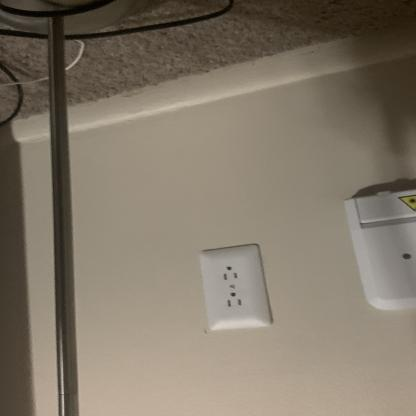OUTLET: (201, 243, 265, 331)
